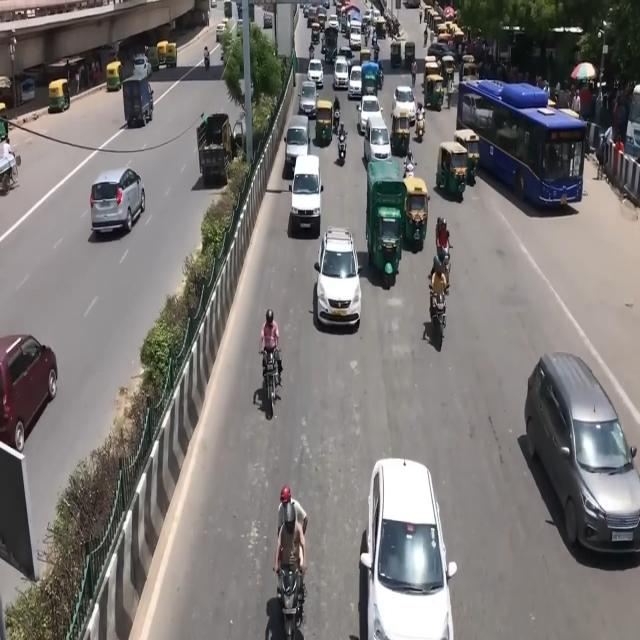auto: (403, 178, 431, 253), (436, 140, 469, 202), (453, 128, 481, 185), (390, 108, 412, 156), (422, 72, 444, 114), (314, 99, 334, 145), (48, 79, 70, 114), (361, 61, 381, 98), (106, 61, 122, 92), (146, 44, 161, 71), (157, 40, 170, 68), (390, 40, 402, 68), (404, 41, 415, 67), (359, 46, 372, 64)
bike-auto: (274, 551, 306, 639), (262, 310, 286, 381), (260, 345, 282, 419), (428, 278, 448, 335), (414, 110, 426, 142), (337, 127, 347, 163), (332, 106, 340, 135), (385, 17, 393, 36), (204, 46, 210, 68), (394, 20, 401, 38), (308, 43, 314, 63), (320, 31, 326, 50), (364, 28, 370, 46), (423, 28, 428, 47), (374, 45, 379, 63)
